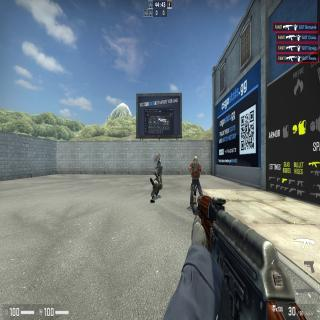CT-Body: (157, 158, 162, 181)
CT-Head: (158, 158, 160, 164)
T-Body: (189, 155, 202, 219)
T-Head: (192, 156, 198, 165)
